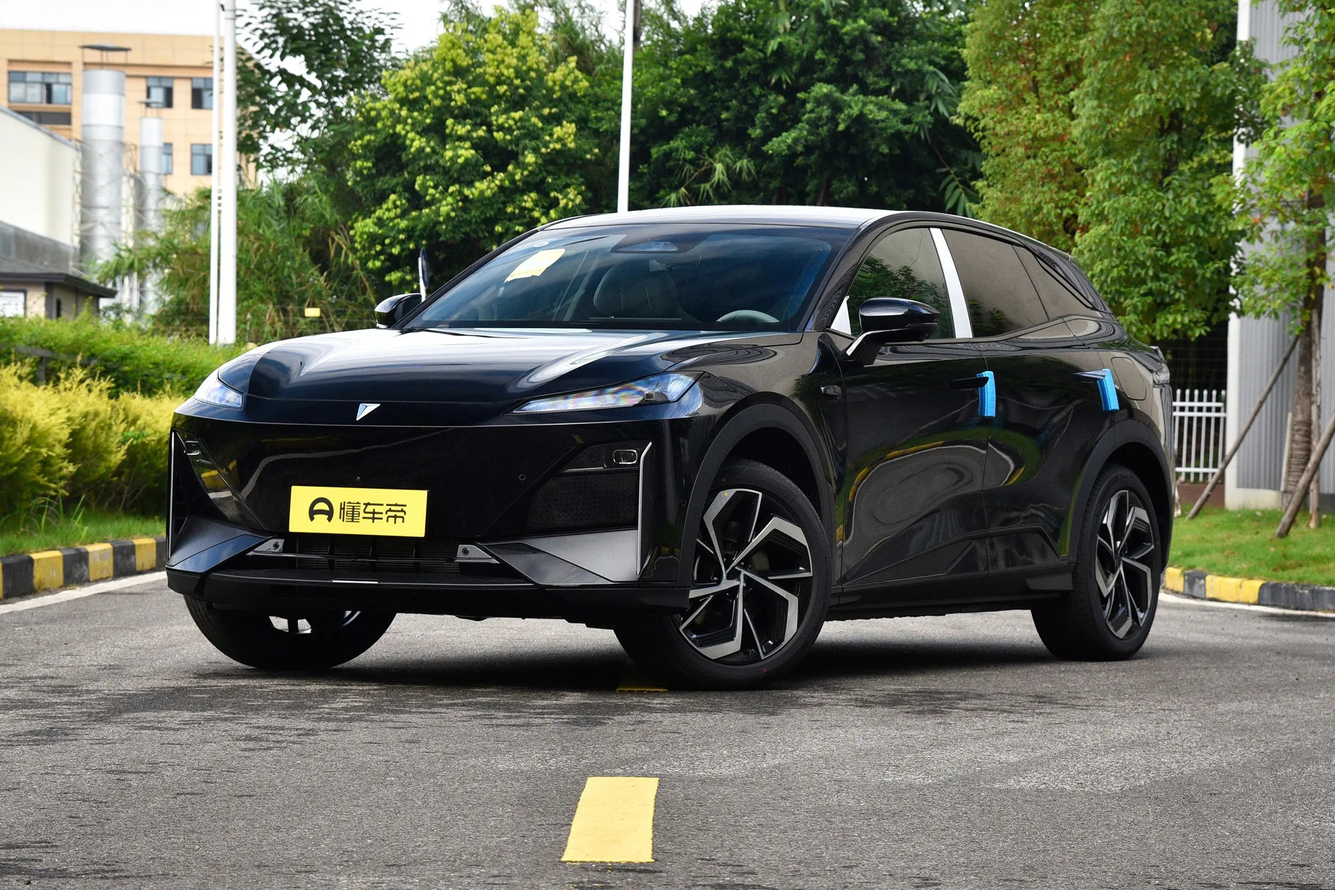Deepal: (356, 403, 380, 421)
